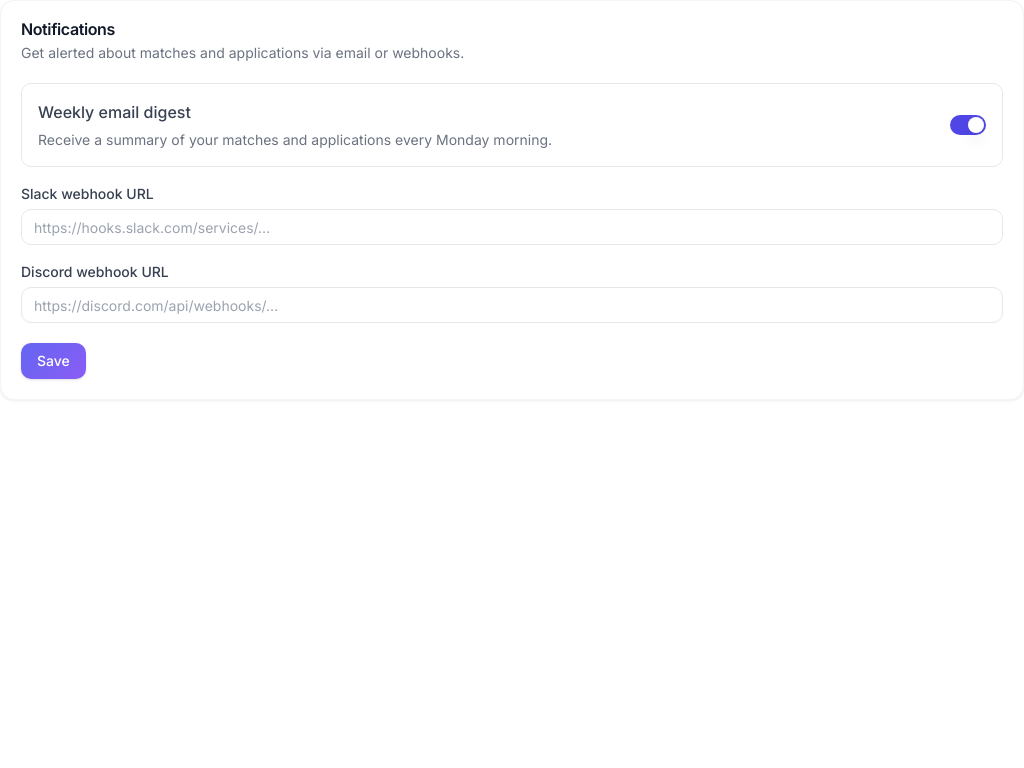
Test case: NotificationsForm › shows error for invalid Discord URL (http not https)
Type "http://insecure.com" into the field with placeholder "https://discord.com/api/webhooks/…" at (512, 305), box [21,287,1003,323]
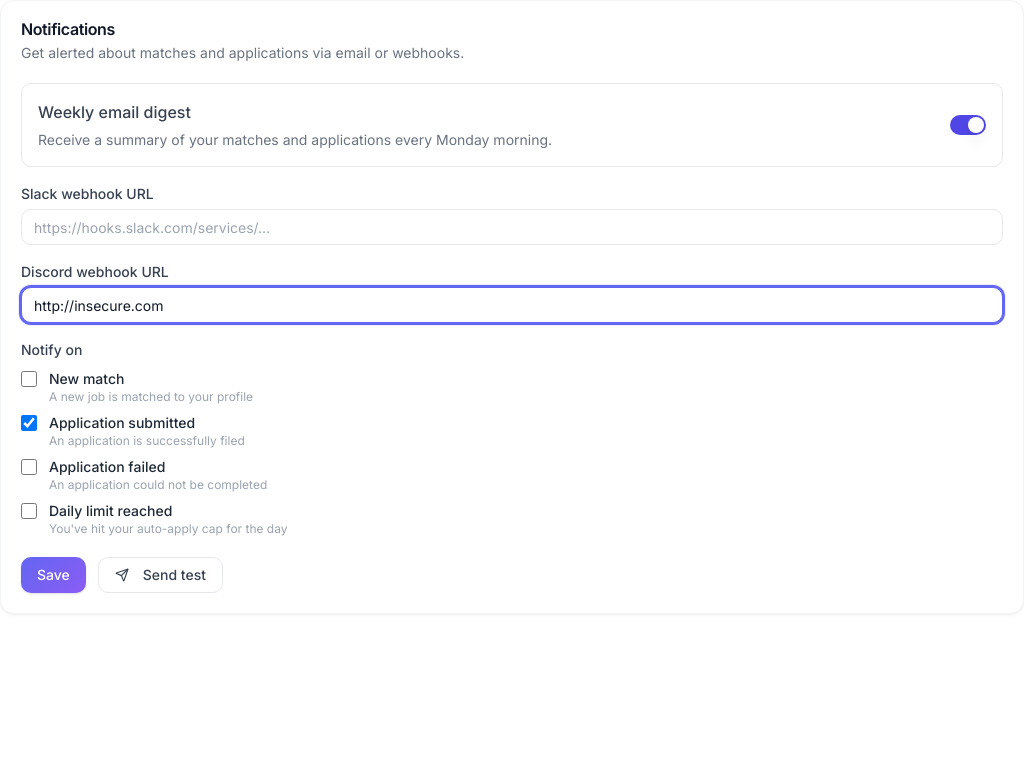
Click the button "Save" at (53, 575), box [21,557,86,593]
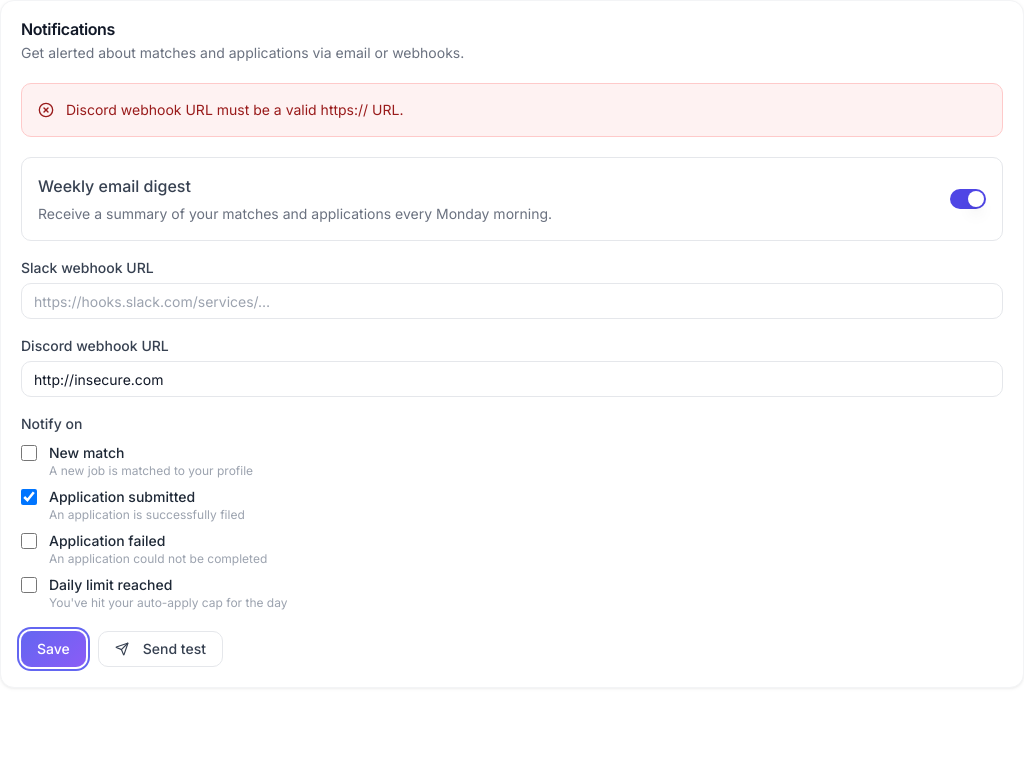
Check: the text "Discord webhook URL must be a valid https:// URL." is shown, box [66,101,404,118]
